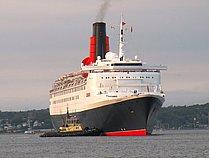Ship: (47, 8, 172, 142)
